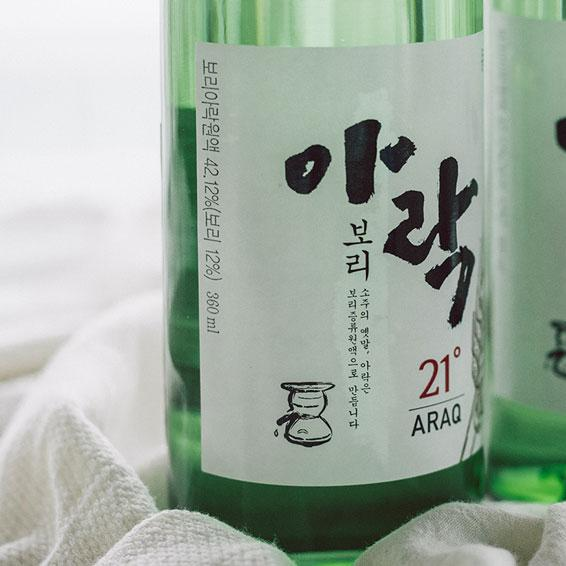soju: (158, 4, 566, 547)
